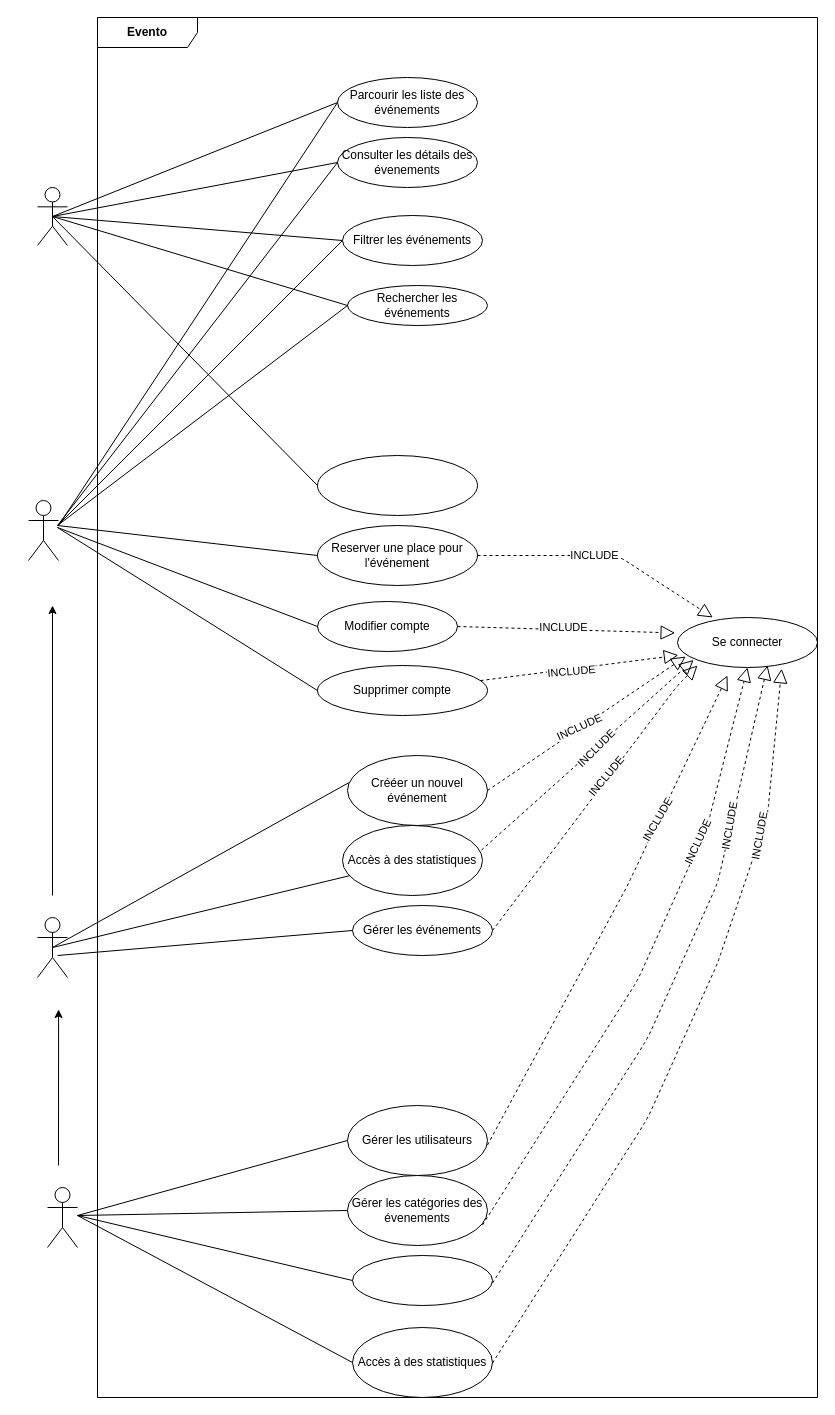
Some shapes in this 835 by 1415 pixel diagram are drawn without their labels. The shapes that lost their labels are listed below. From the top down, each one's box as (x1, y1, x2, y2) in pixels, then its label:
(36, 186, 68, 246): Visionneur
(316, 454, 478, 516): S'incrire
(28, 500, 58, 560): Utilisateur
(36, 916, 68, 978): Organisateur
(46, 1186, 78, 1248): Admin
(352, 1254, 492, 1306): Valider les évenemnts créés
